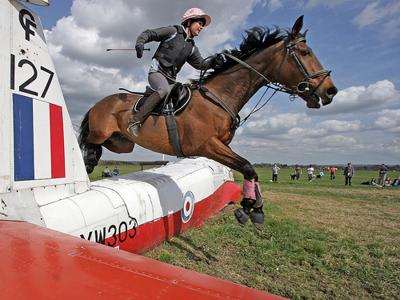person: (126, 6, 223, 137)
